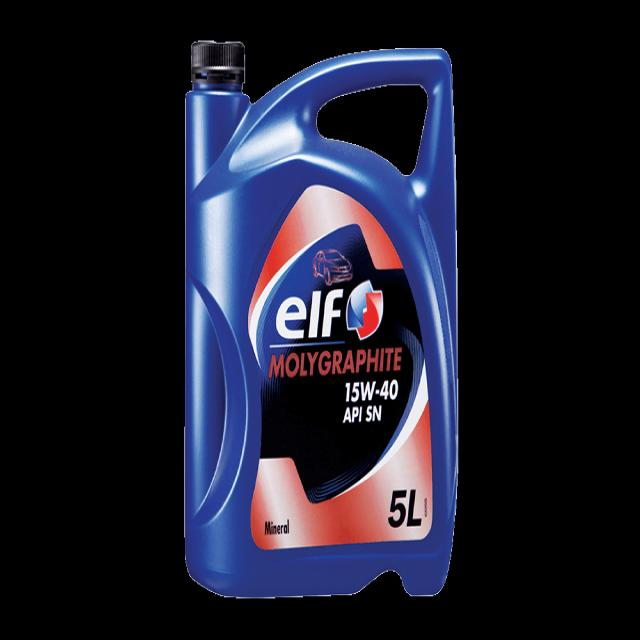motor_oil: (181, 30, 460, 602)
